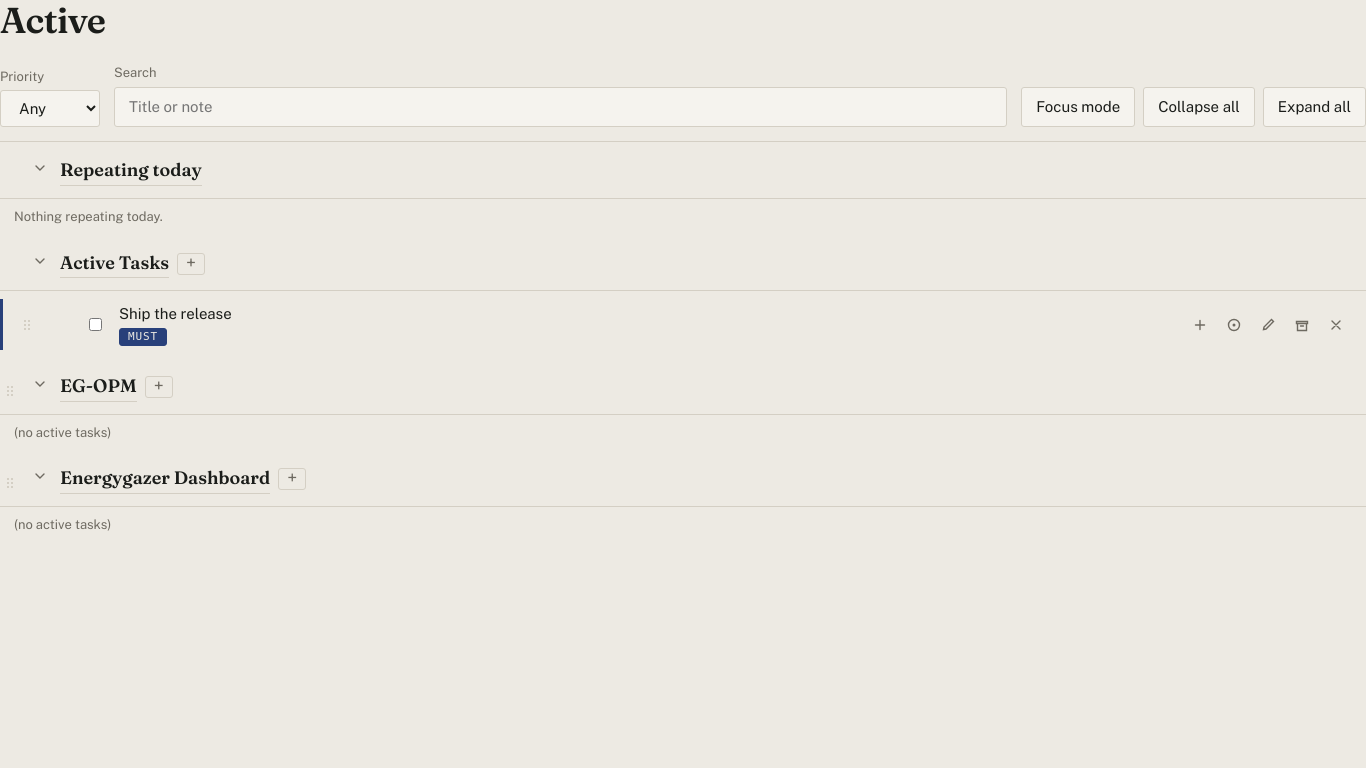
it: a subtask starts at its parent's priority › leaves a new top-level task at the standing default
Check: the text "Ship the release" is shown, box 119,305 -> 232,322
Click the button named "add a task to Active Tasks" at (191, 264), box 177,252 -> 205,274
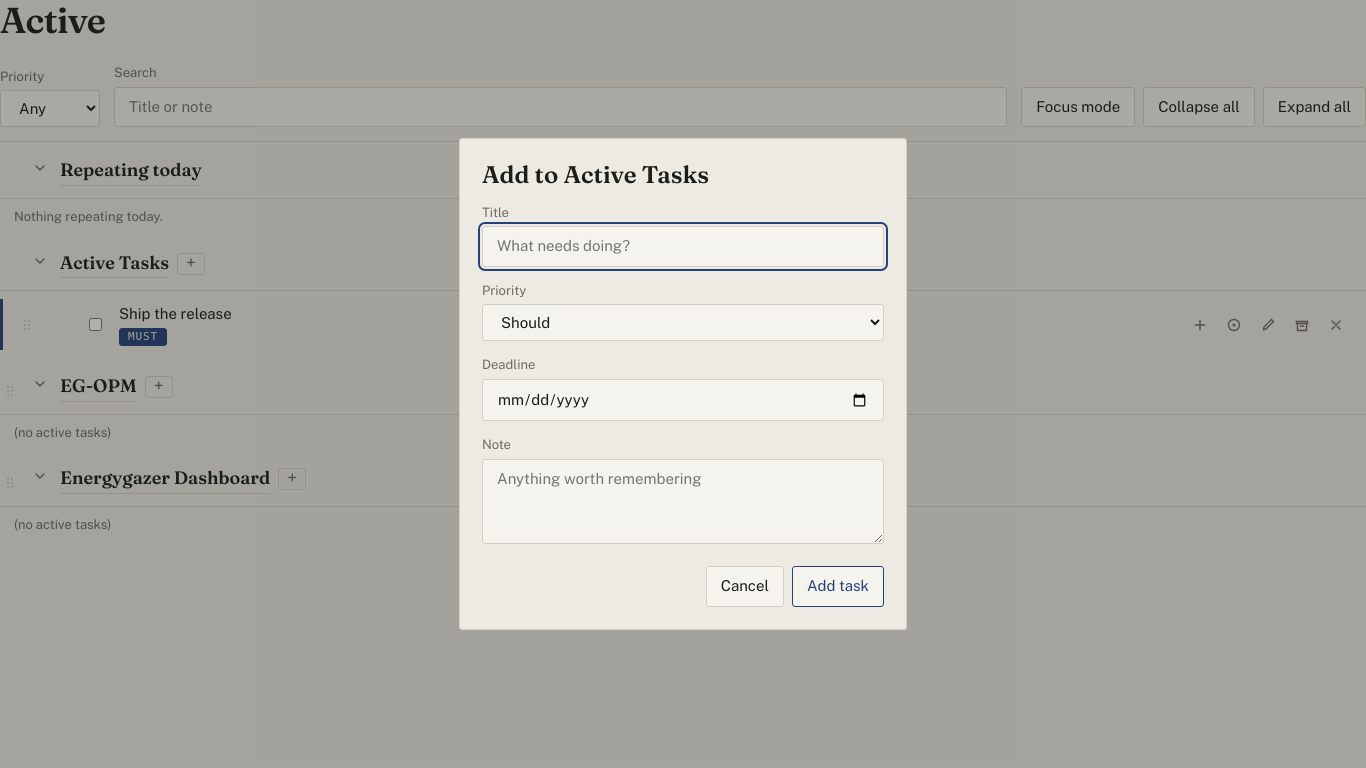
Check: the dropdown labelled "Priority" shows "Should", box 482,304 -> 884,341
